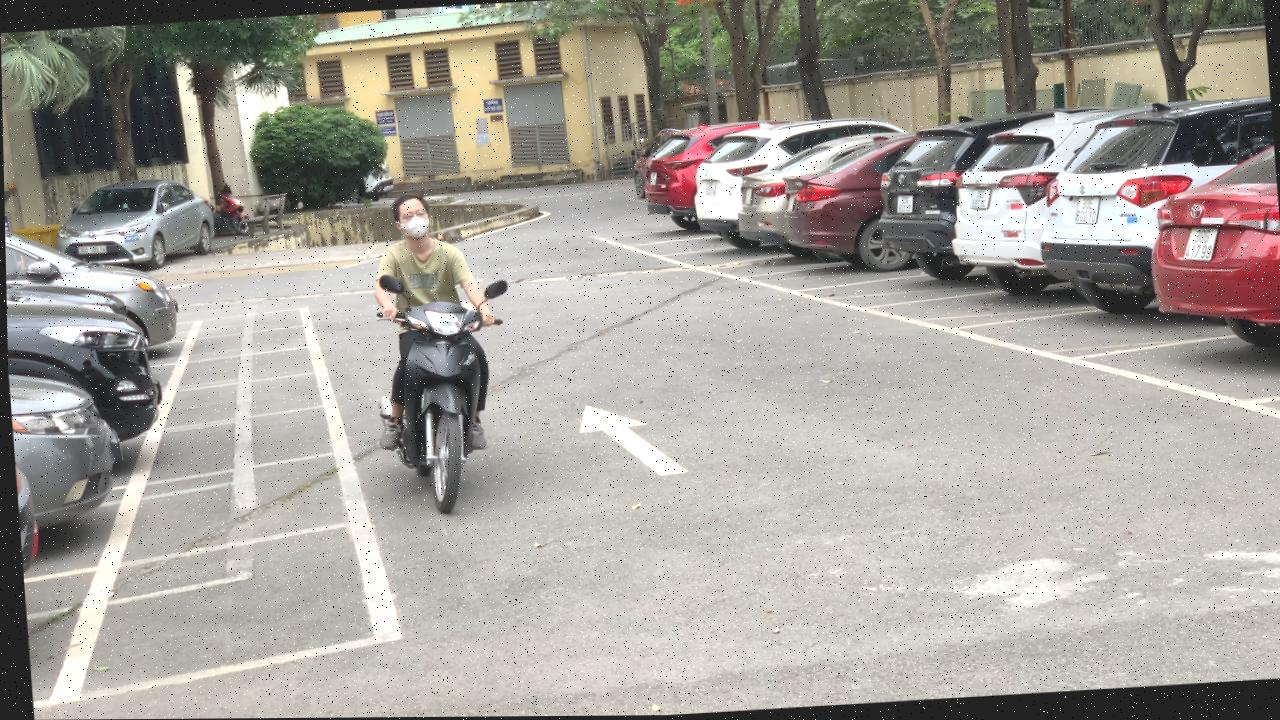motorcyclist: (356, 191, 526, 512)
